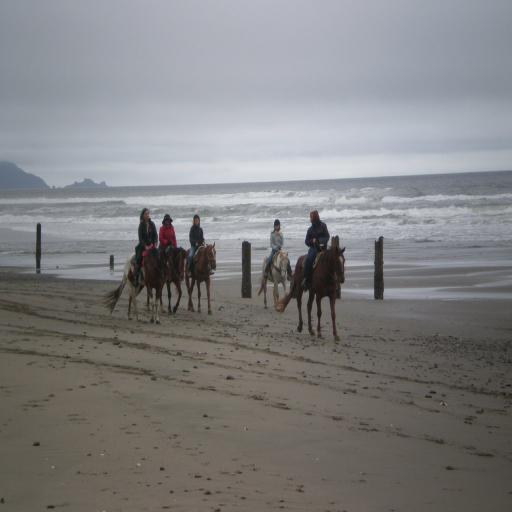Horse: (278, 241, 347, 342), (101, 251, 174, 325), (145, 248, 188, 317), (186, 242, 217, 316), (252, 250, 290, 310)
